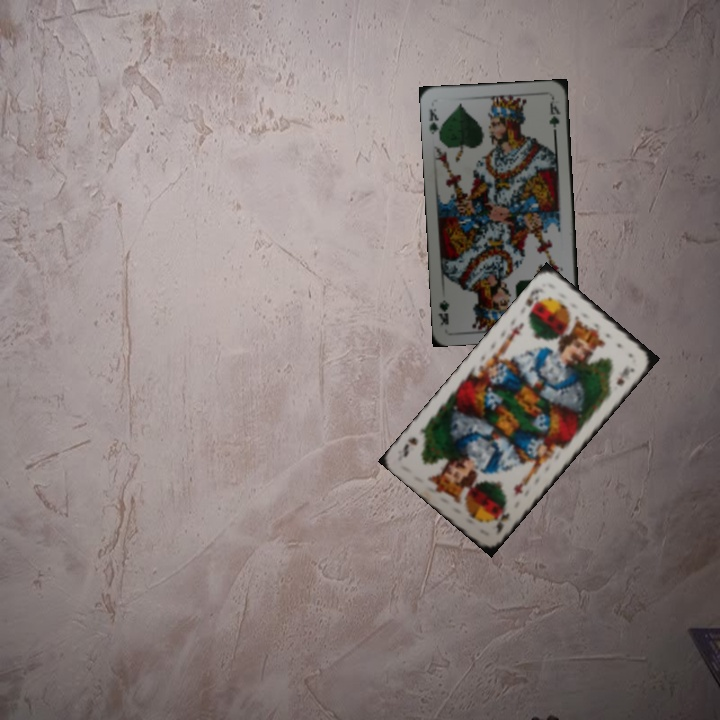GK: (425, 105, 444, 141)
SK: (521, 284, 547, 319), (492, 508, 512, 537)
